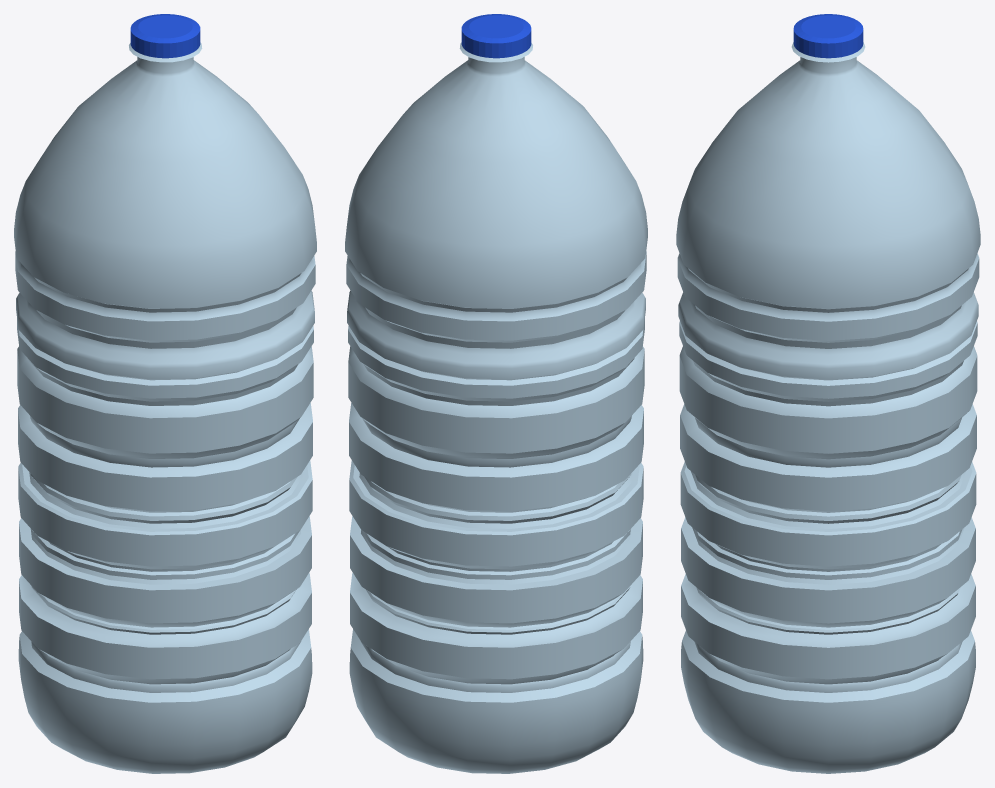
The model's file is water 1.fbx.
3 renders of one model, left to right at view 1: azimuth 30°, elevation 25°; view 2: azimuth 150°, elevation 25°; view 3: azimuth 270°, elevation 25°, orthographic.
Parts seen in each view (by area): view 1: Cube, Cylinder; view 2: Cube, Cylinder; view 3: Cube, Cylinder.
Boxes of the visible parts, x1,y1,x2,y2 form: Cube: [14, 42, 316, 773]; Cylinder: [130, 14, 200, 58]; Cube: [345, 42, 647, 773]; Cylinder: [461, 14, 531, 58]; Cube: [676, 42, 980, 773]; Cylinder: [793, 14, 863, 58].
Bounding box in the file's own units: 187 × 477 × 187.
